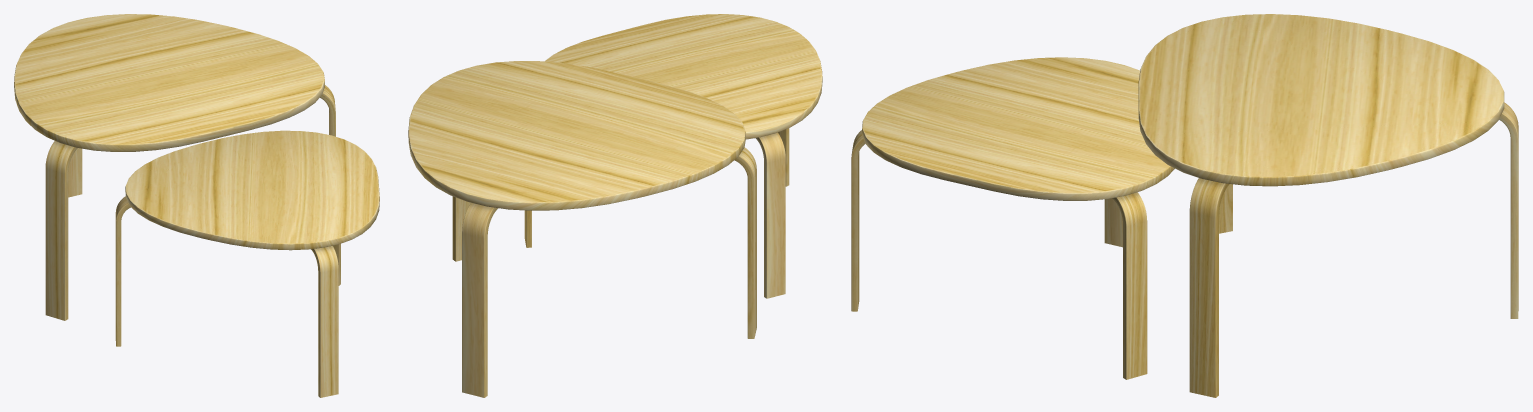
The model's file is CoffeTable_006.gltf.
3 renders of one model, left to right at view 1: azimuth 30°, elevation 25°; view 2: azimuth 150°, elevation 25°; view 3: azimuth 270°, elevation 25°, orthographic. The views are drawn at different scales.
Parts seen in each view (by area): view 1: CoffeTable_006; view 2: CoffeTable_006; view 3: CoffeTable_006.
Part boxes in pixels (bbox=[...]): CoffeTable_006: bbox=[14, 14, 379, 397]; CoffeTable_006: bbox=[408, 14, 822, 397]; CoffeTable_006: bbox=[851, 14, 1518, 397].
Size of the model in its own units: 0.7951 by 0.4778 by 1.32.
1 material, 1 textured.
